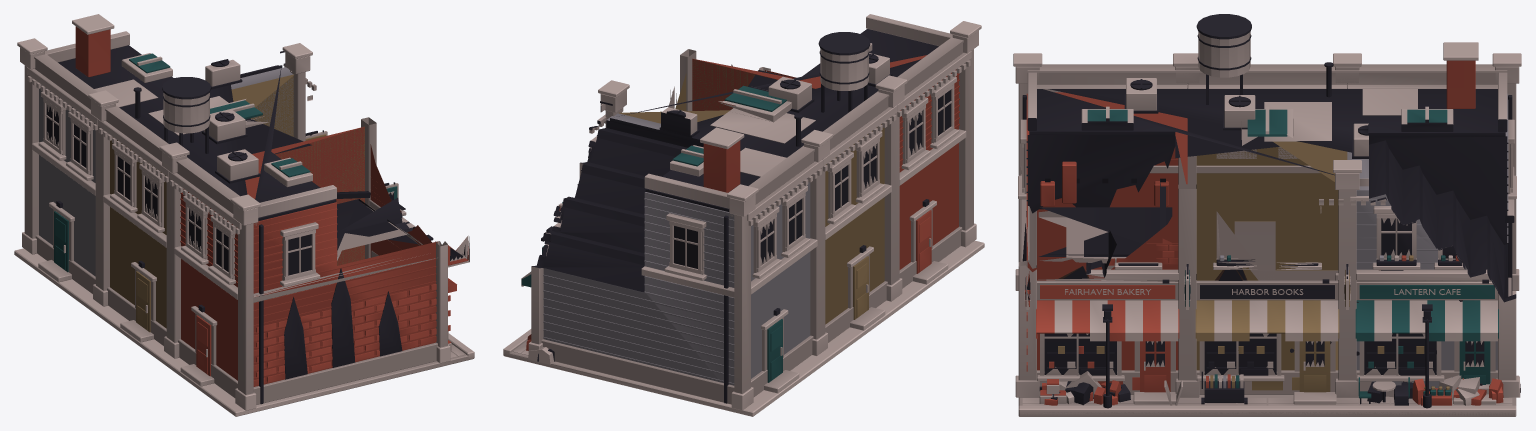
Rendered from bld.storefront-row.w6.glb.
3 views of the same model, side by side, from view 1: azimuth 30°, elevation 25°; view 2: azimuth 150°, elevation 25°; view 3: azimuth 270°, elevation 25° (orthographic). The views are drawn at different scales.
Visible parts, largest first — view 1: body; view 2: body; view 3: body.
Part boxes in pixels (<box>): body: <box>14,14,474,416</box>; body: <box>503,14,984,416</box>; body: <box>1013,14,1521,416</box>.
Bounding box in the file's own units: 10.1 × 10.2 × 16.54.
